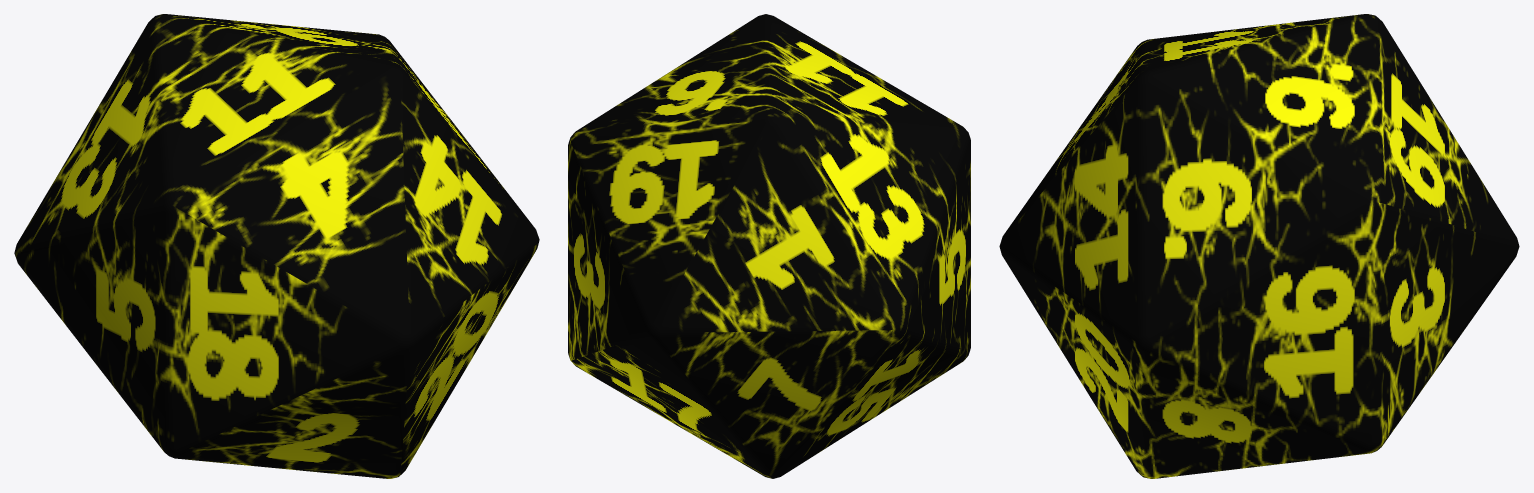
3 renders of one model, left to right at view 1: azimuth 30°, elevation 25°; view 2: azimuth 150°, elevation 25°; view 3: azimuth 270°, elevation 25°, orthographic. The views are drawn at different scales.
Parts seen in each view (by area): view 1: 20Yellow_20Yellow_0; view 2: 20Yellow_20Yellow_0; view 3: 20Yellow_20Yellow_0.
Boxes of the visible parts, x1,y1,x2,y2 form: 20Yellow_20Yellow_0: (14,14,539,478); 20Yellow_20Yellow_0: (568,14,970,478); 20Yellow_20Yellow_0: (999,14,1519,478).
Size of the model in its own units: 1.77 by 1.69 by 1.97.
Materials: 1 (1 with a texture image).
